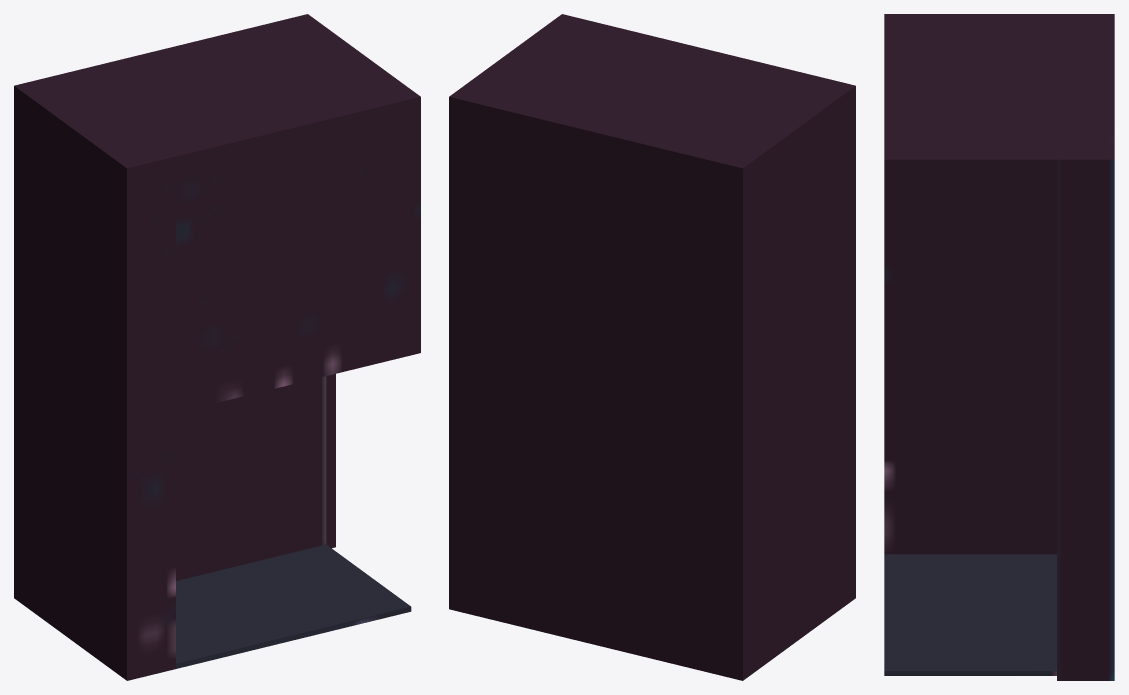
The model's file is BuildingModule_J_00.fbx.
3 views of the same model, side by side, from view 1: azimuth 30°, elevation 25°; view 2: azimuth 150°, elevation 25°; view 3: azimuth 270°, elevation 25° (orthographic).
Parts seen in each view (by area): view 1: BuildingModule_J_00; view 2: BuildingModule_J_00; view 3: BuildingModule_J_00.
Boxes of the visible parts, x1,y1,x2,y2 form: BuildingModule_J_00: (14, 14, 420, 680); BuildingModule_J_00: (449, 14, 855, 680); BuildingModule_J_00: (884, 14, 1114, 680).
Bounding box in the file's own units: 300 × 500 × 200.
